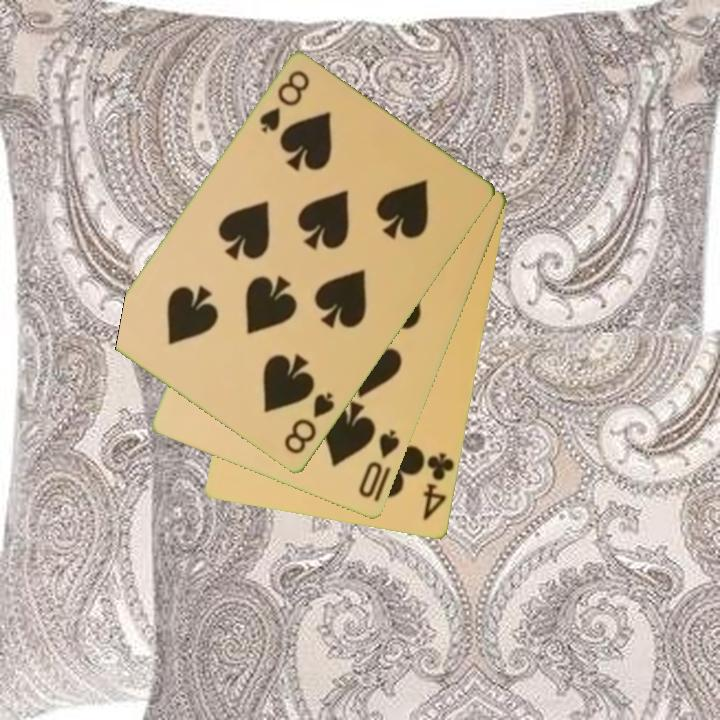10s: (355, 427, 403, 502)
4c: (420, 449, 458, 524)
8s: (280, 388, 338, 458), (255, 67, 313, 137)
